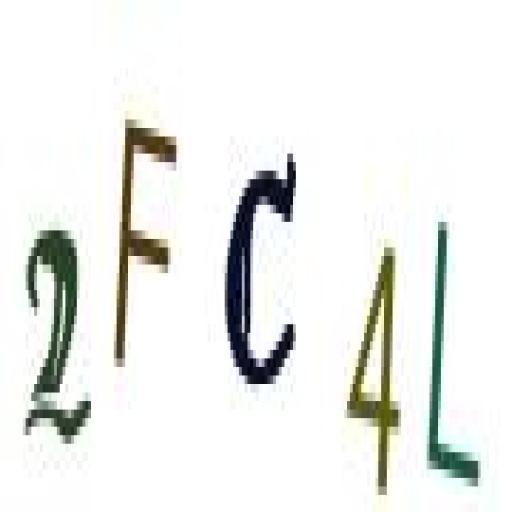2: (19, 203, 96, 465)
4: (340, 213, 404, 508)
C: (224, 126, 301, 412)
F: (111, 93, 182, 404)
L: (420, 190, 486, 508)
